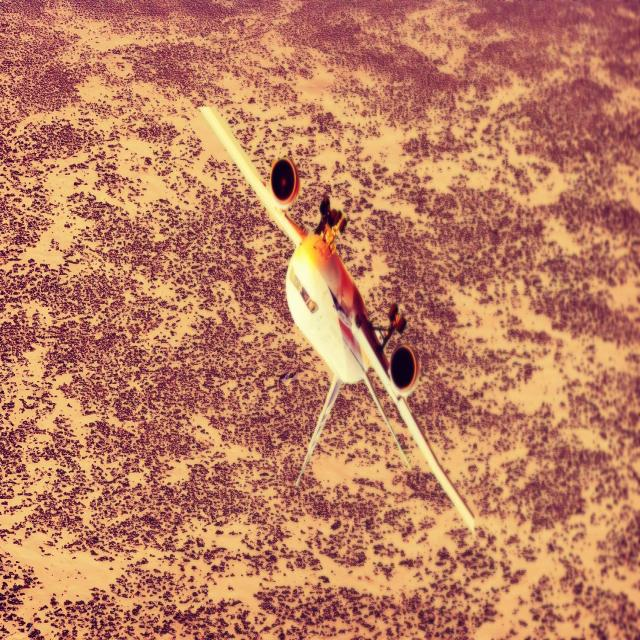airplane: (198, 104, 476, 535)
